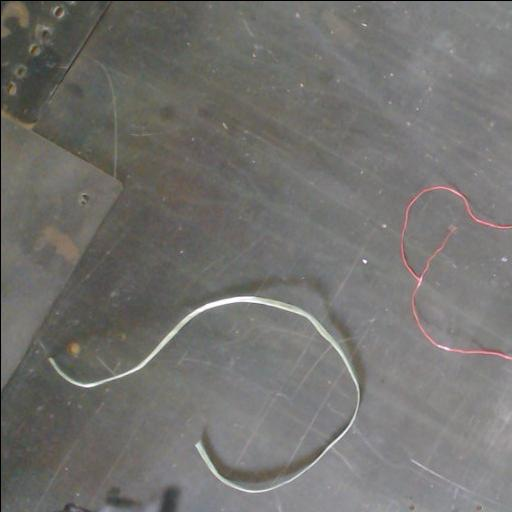conveyor belt: (1, 1, 512, 512), (406, 192, 512, 350)
thread: (48, 295, 359, 438), (399, 184, 512, 360), (218, 438, 336, 491)
